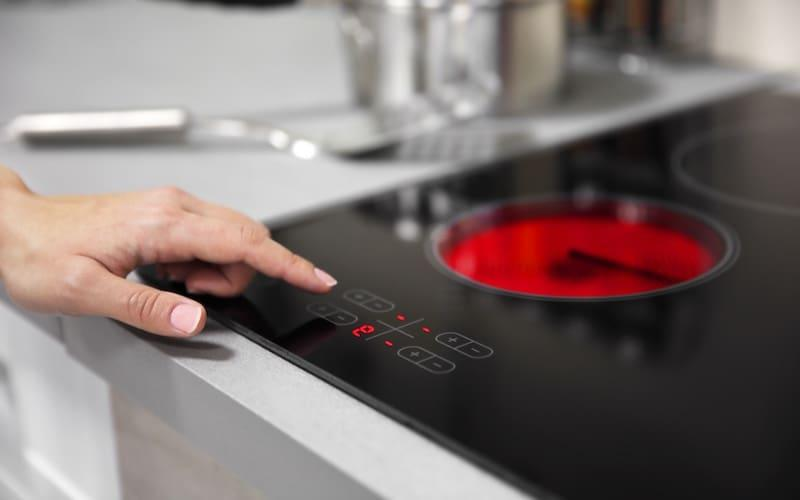controlled_fire: (454, 200, 710, 301)
